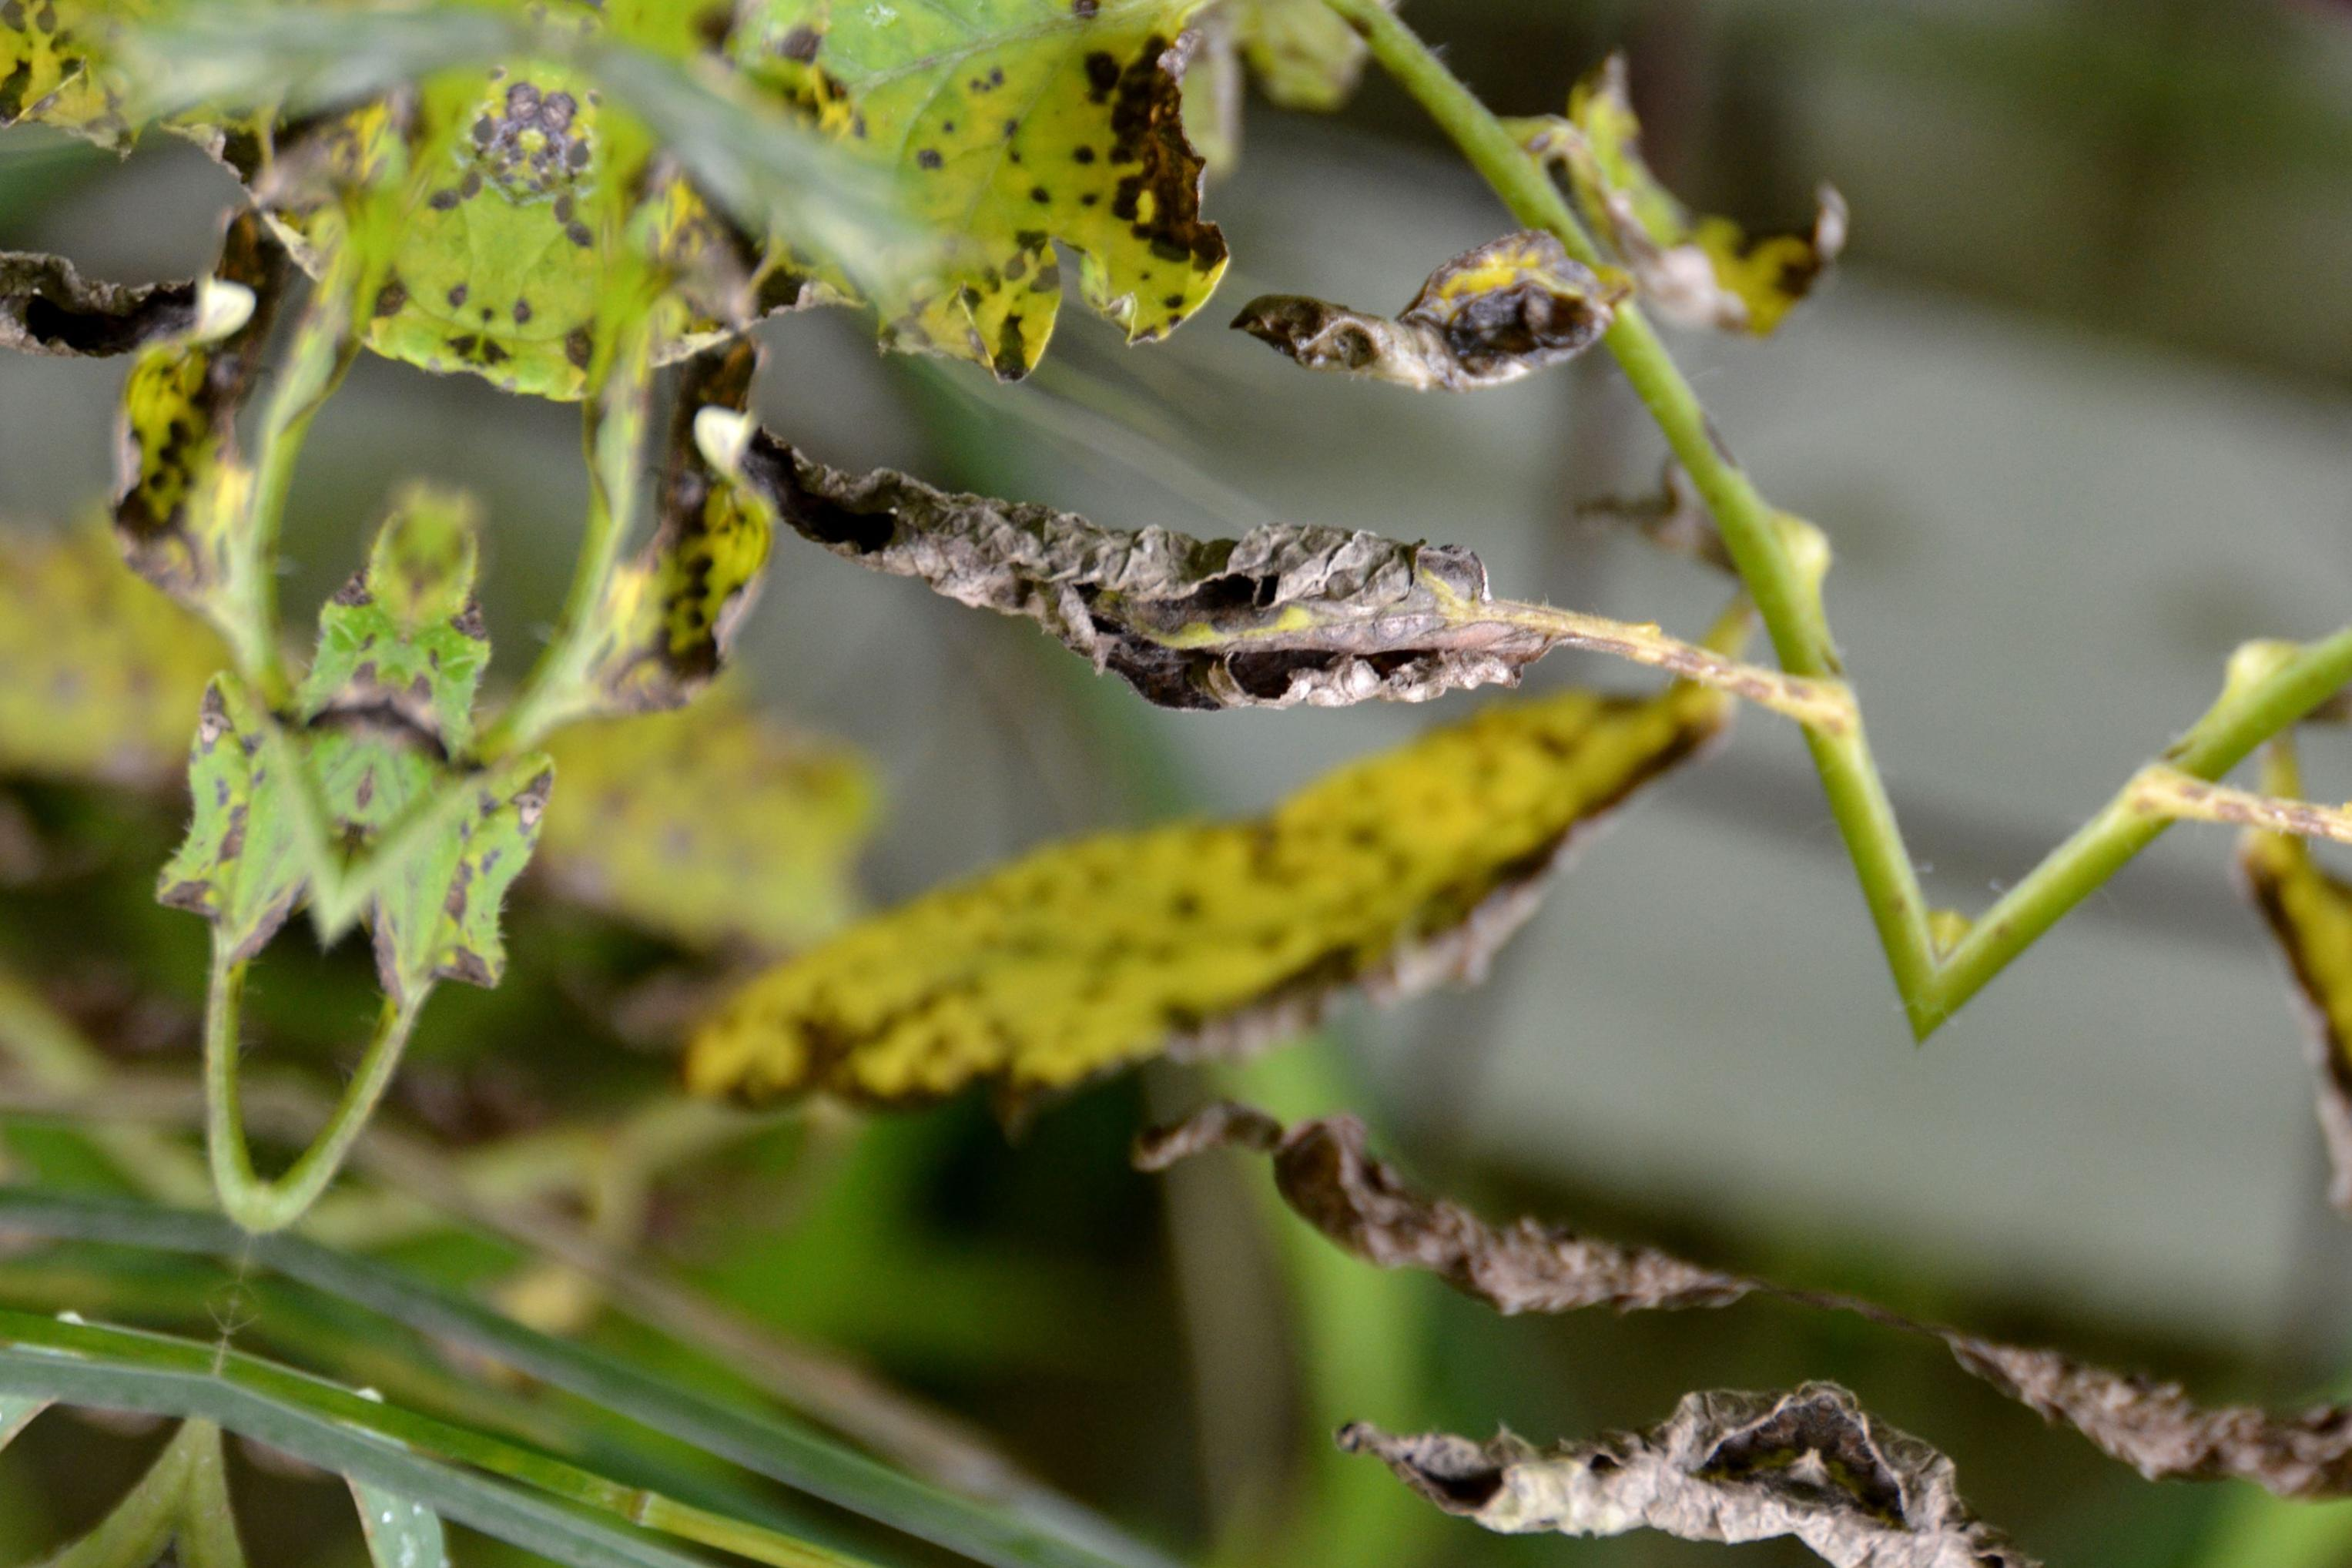Tomato Septoria leaf spot: (704, 491, 1724, 1315), (484, 0, 1318, 540)
